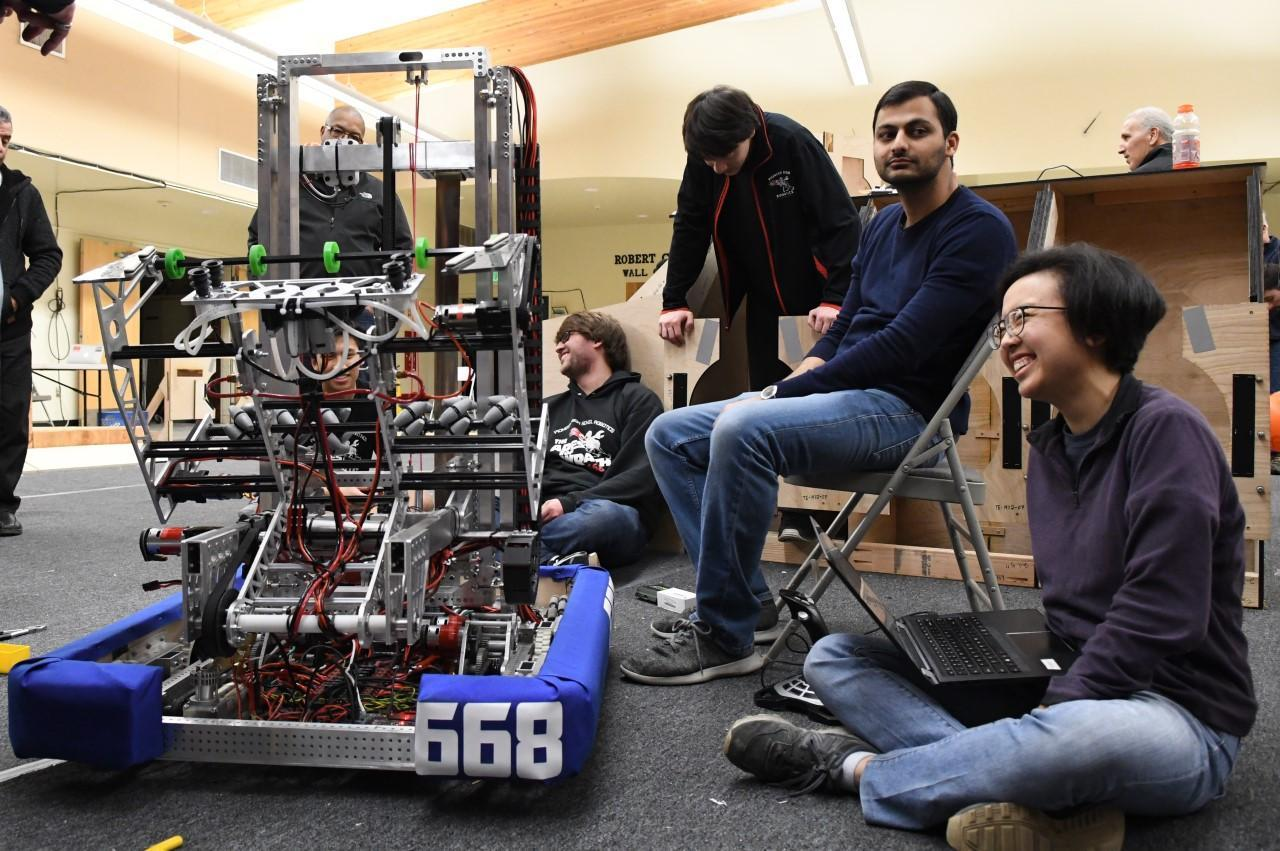robot: (9, 45, 620, 781)
